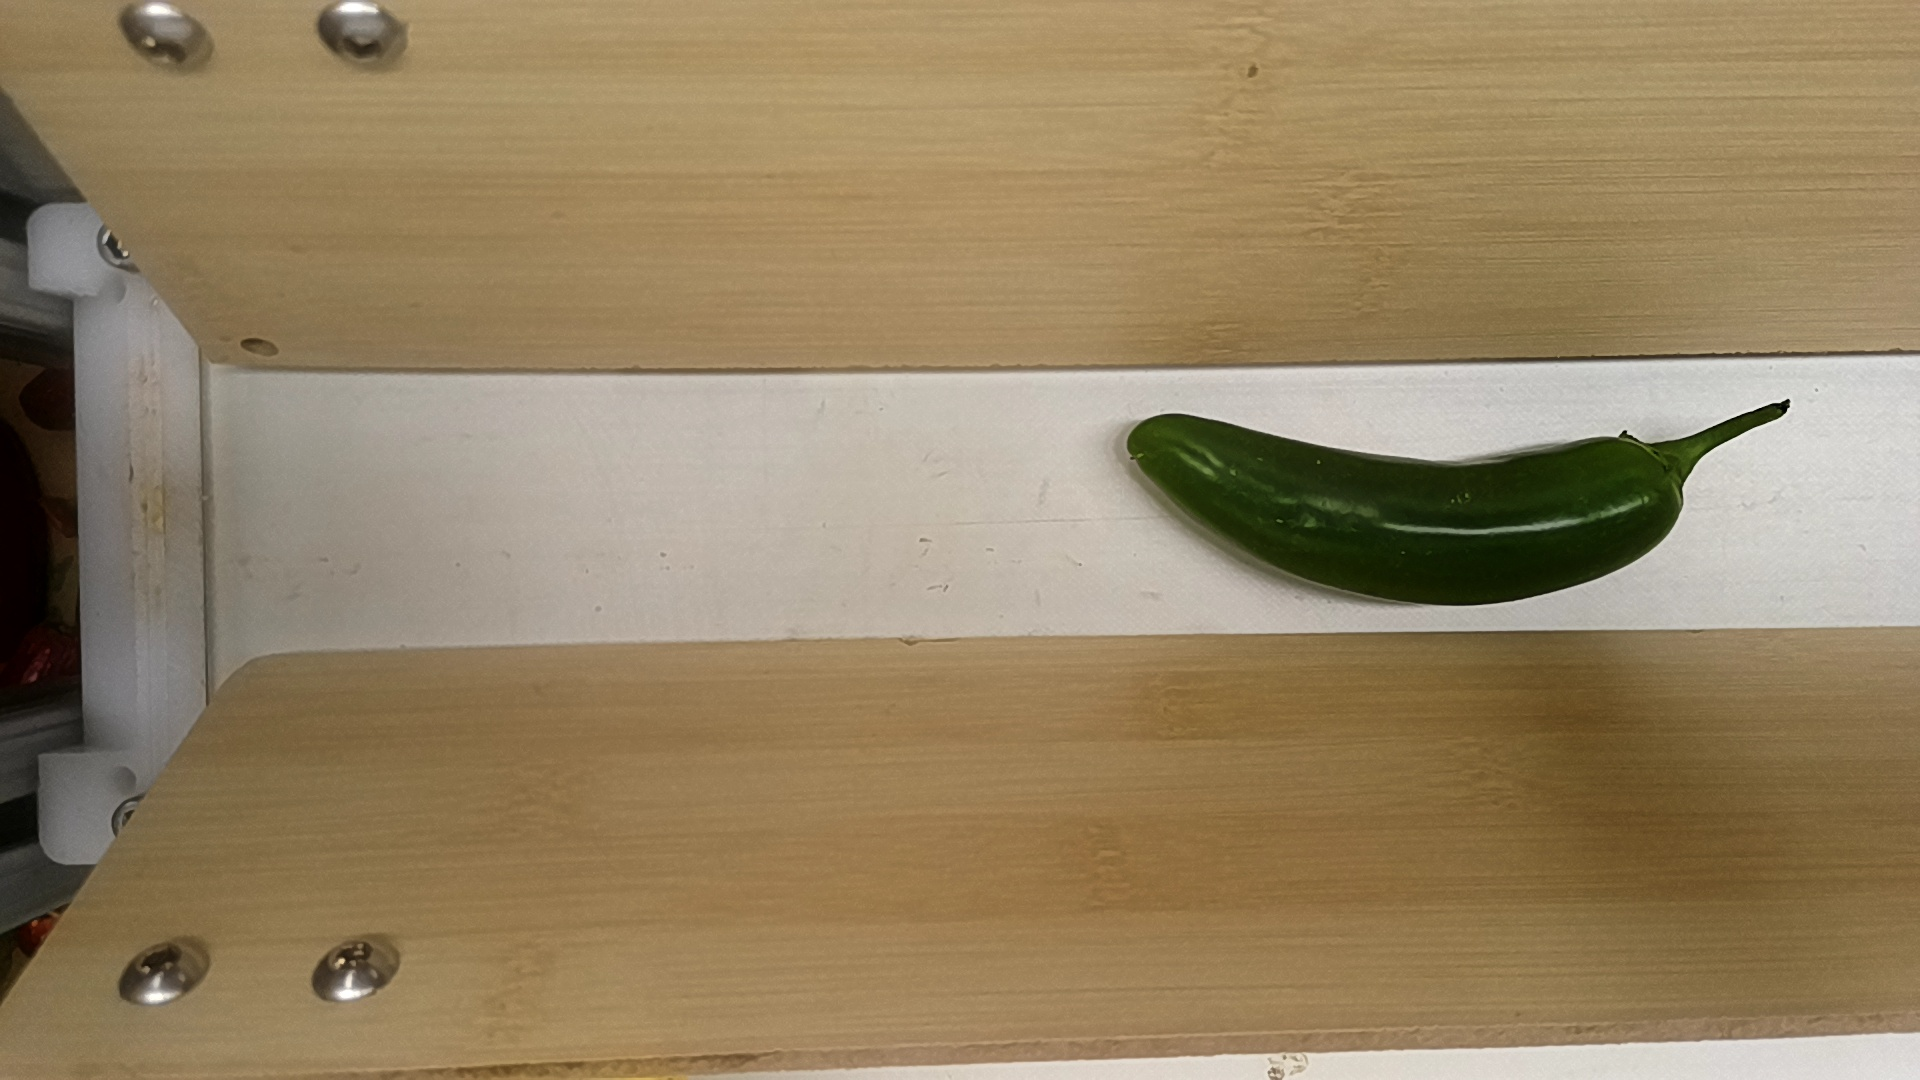Cut Point: (1609, 419, 1691, 559)
